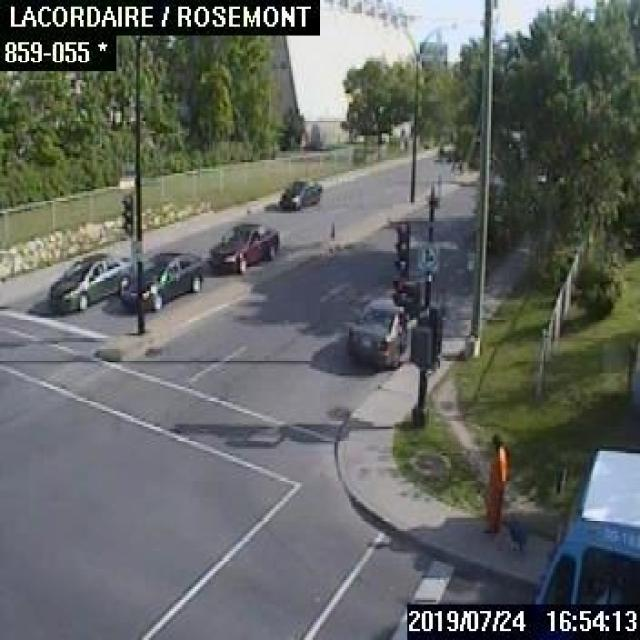bus: (527, 448, 638, 604)
pedestrian: (482, 431, 505, 531)
vehicle: (46, 252, 131, 310), (120, 250, 202, 309), (346, 296, 408, 368), (207, 221, 278, 271), (277, 176, 320, 208)
